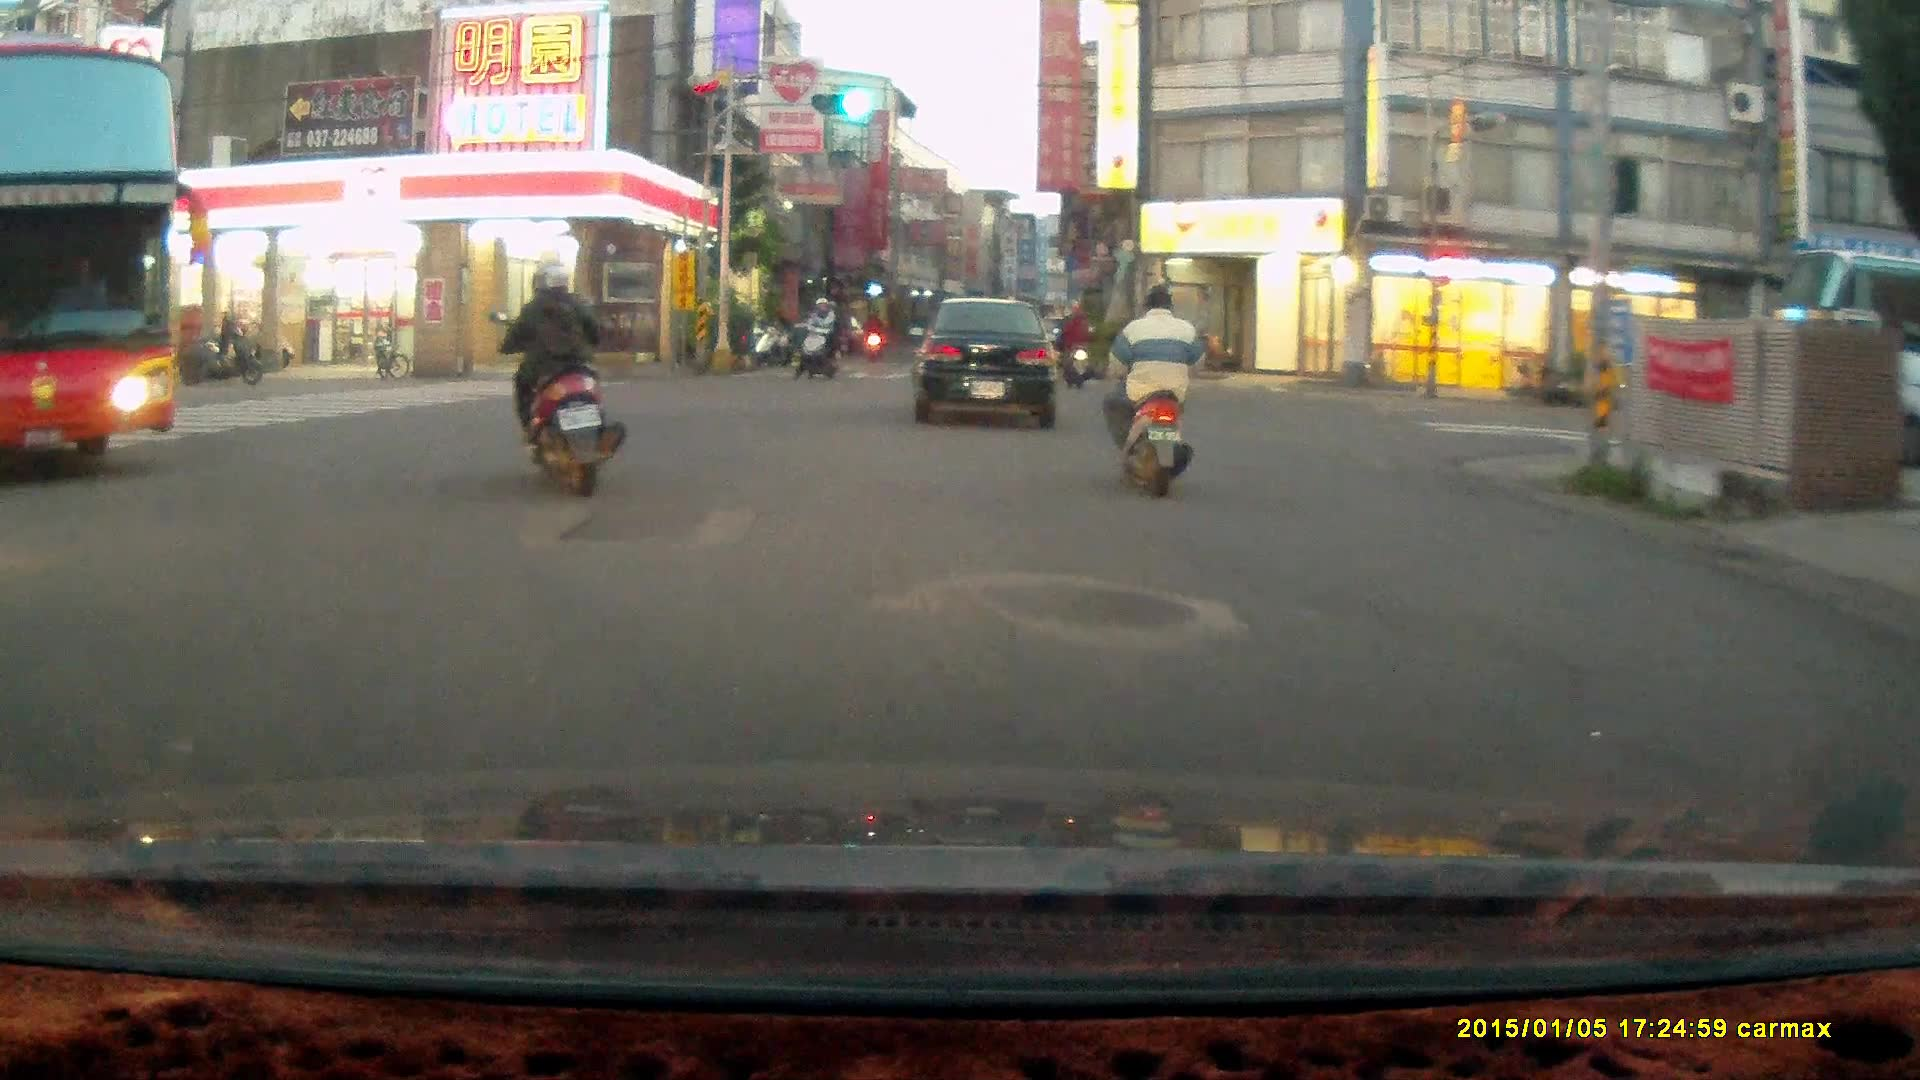rider: (489, 253, 626, 493), (1104, 284, 1205, 499), (796, 293, 847, 379), (1054, 299, 1093, 390)
vehicle: (1, 38, 182, 476), (916, 296, 1061, 431)
